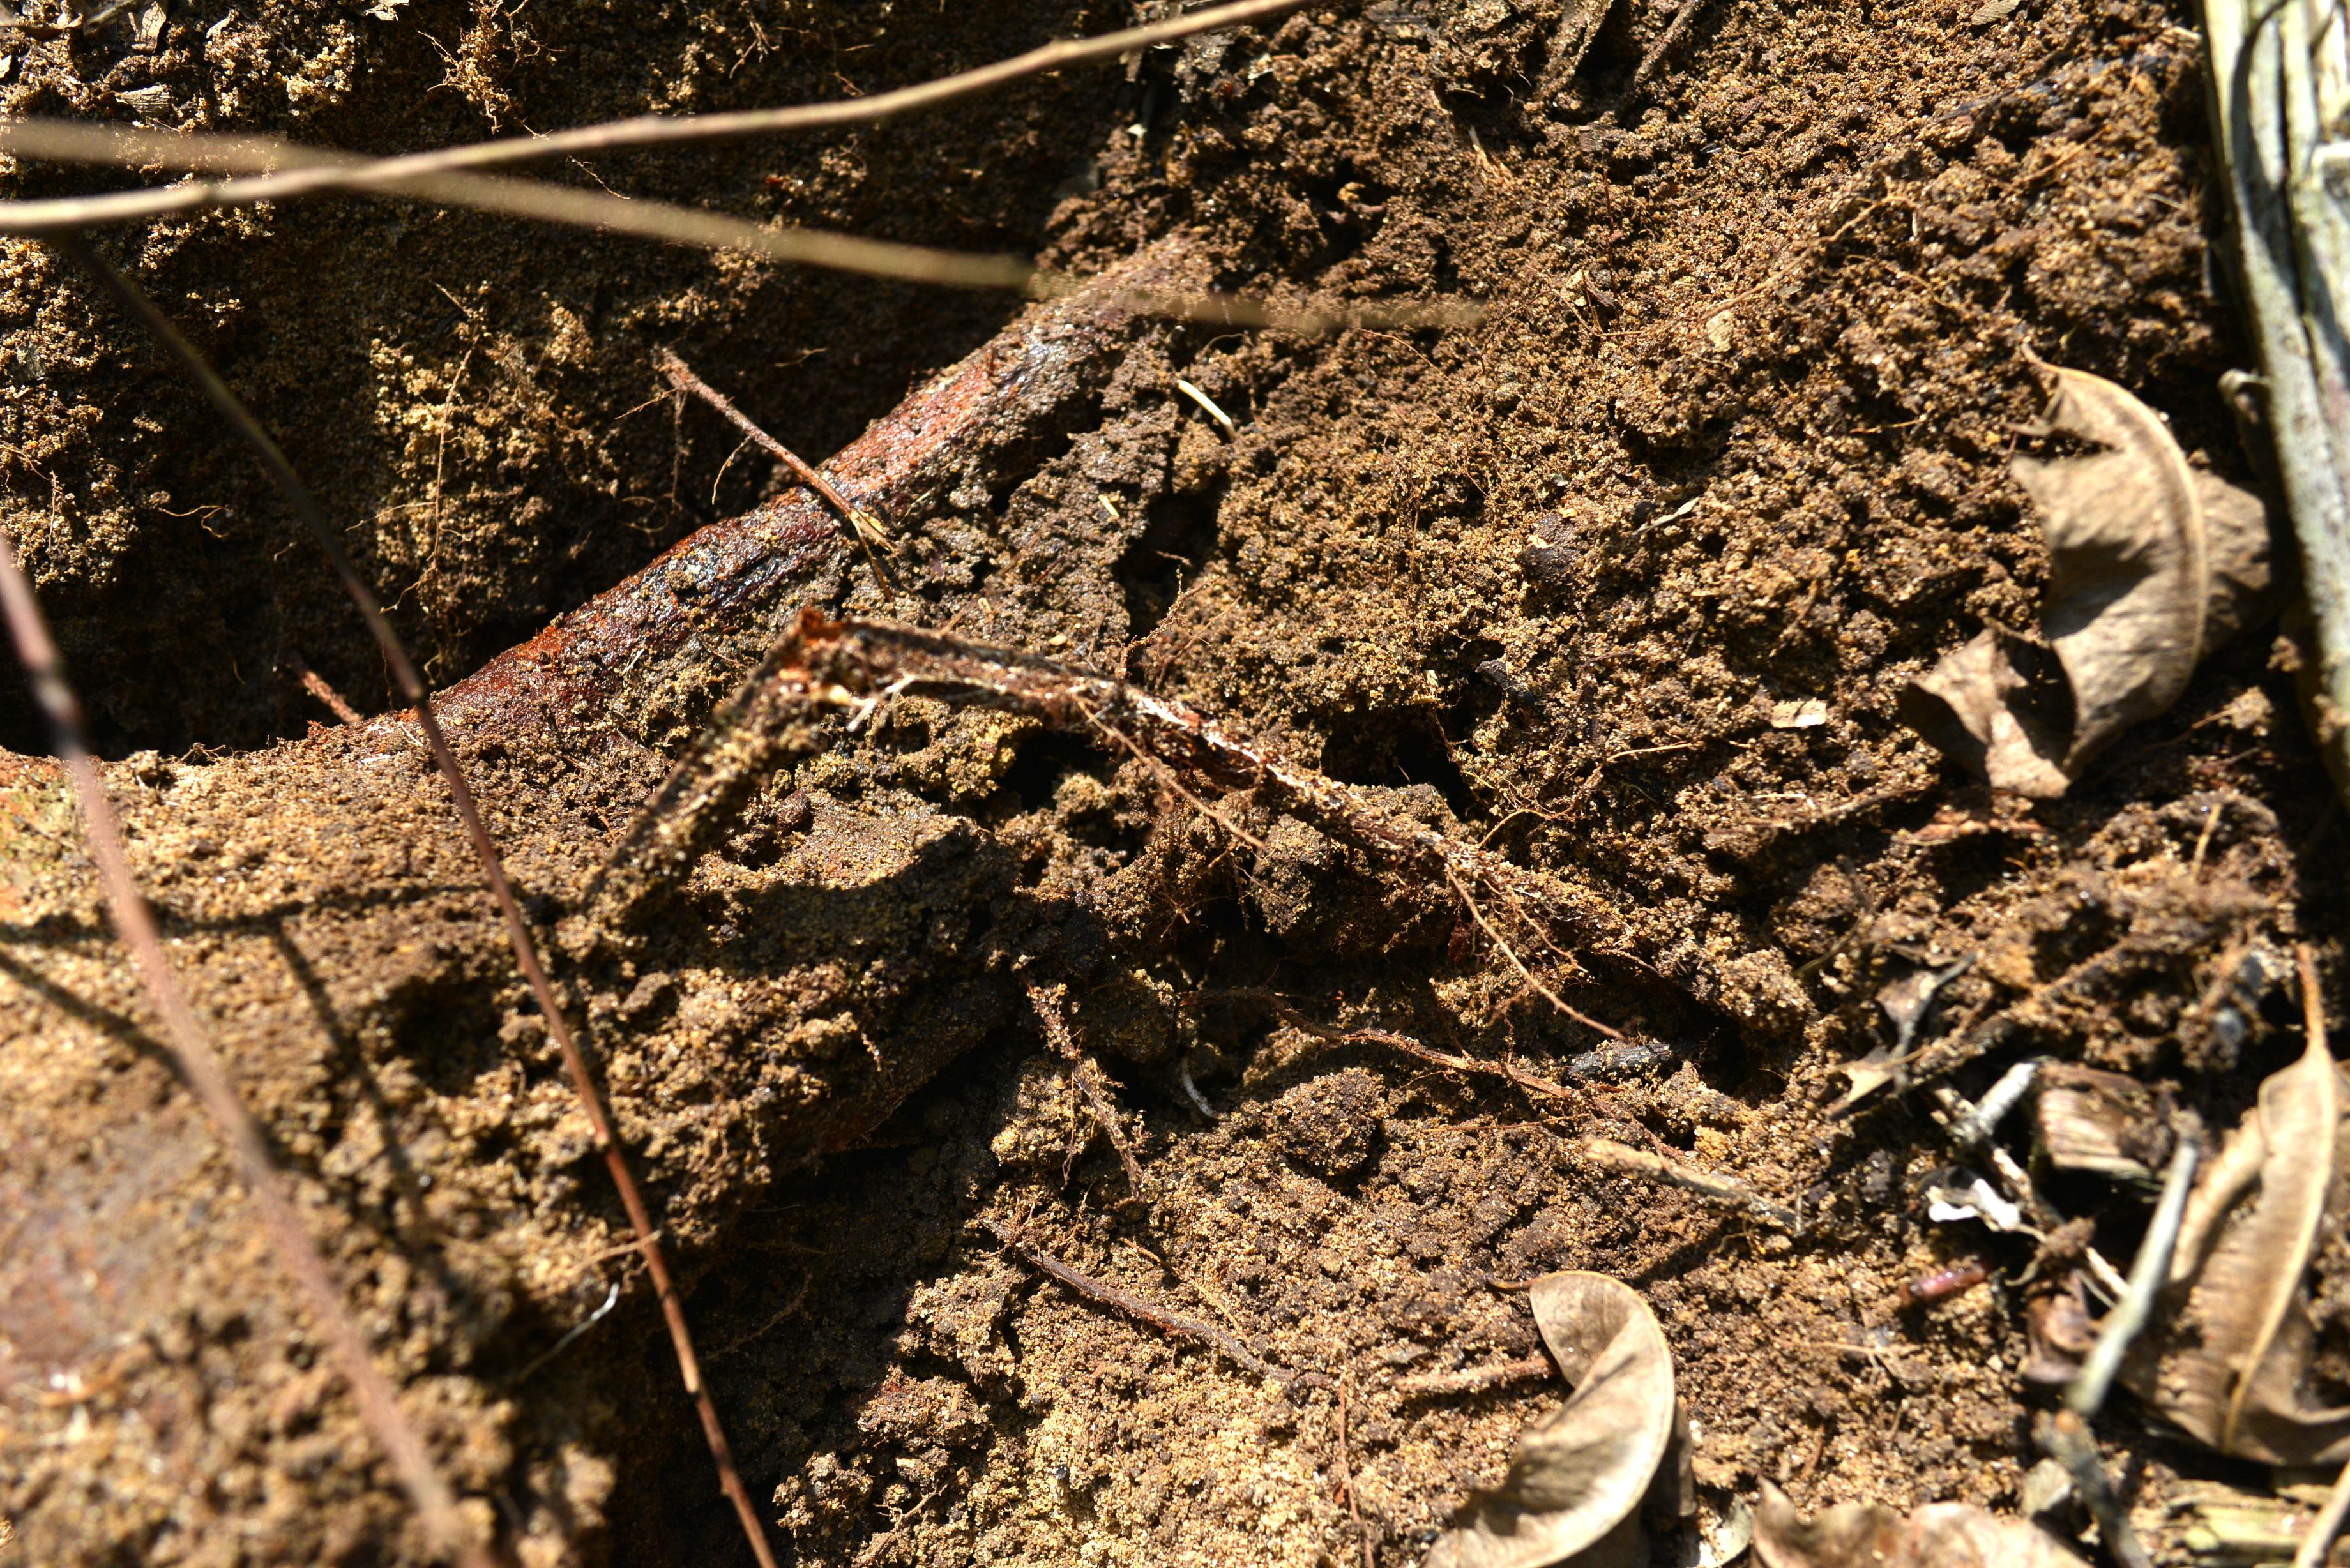Ganoderma - Mycelium: (1129, 686, 1591, 924), (313, 709, 429, 812)
Red Root Rot - Secretion: (355, 243, 1120, 689)
